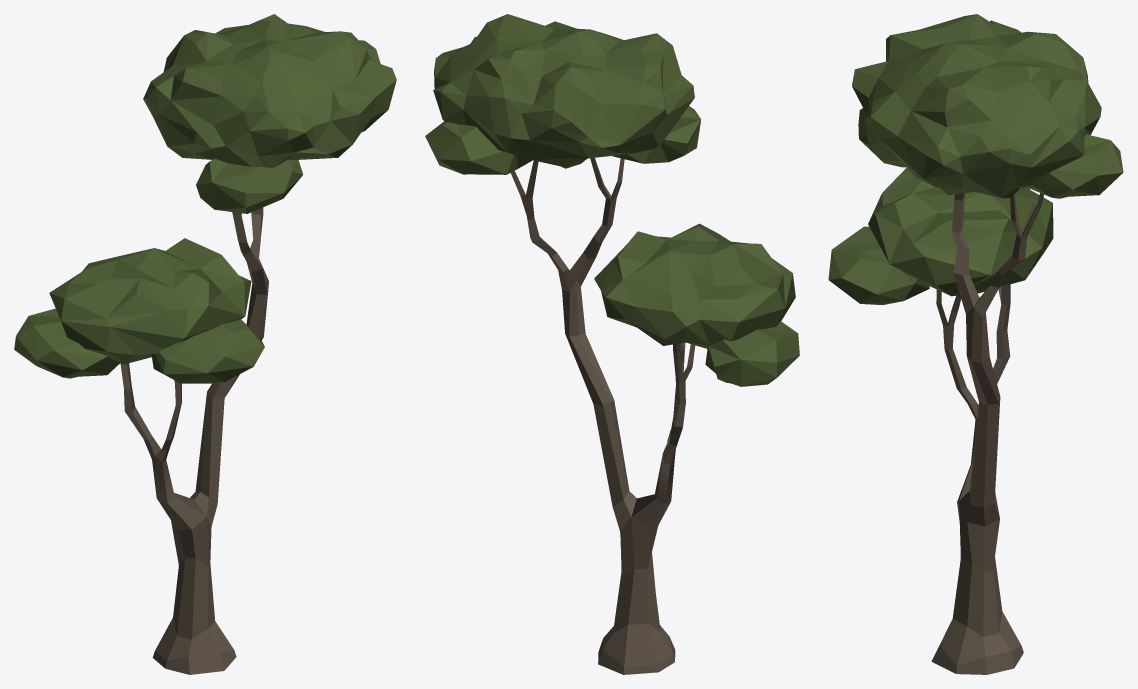
File: tree_89.fbx
3 views of the same model, side by side, from view 1: azimuth 30°, elevation 25°; view 2: azimuth 150°, elevation 25°; view 3: azimuth 270°, elevation 25° (orthographic). The views are drawn at different scales.
Parts seen in each view (by area): view 1: tree_089; view 2: tree_089; view 3: tree_089.
Boxes of the visible parts, x1,y1,x2,y2 form: tree_089: (14, 14, 396, 674); tree_089: (425, 14, 799, 674); tree_089: (828, 14, 1123, 674).
Size of the model in its own units: 0.7069 by 1.17 by 0.4816.
1 material, 1 textured.
